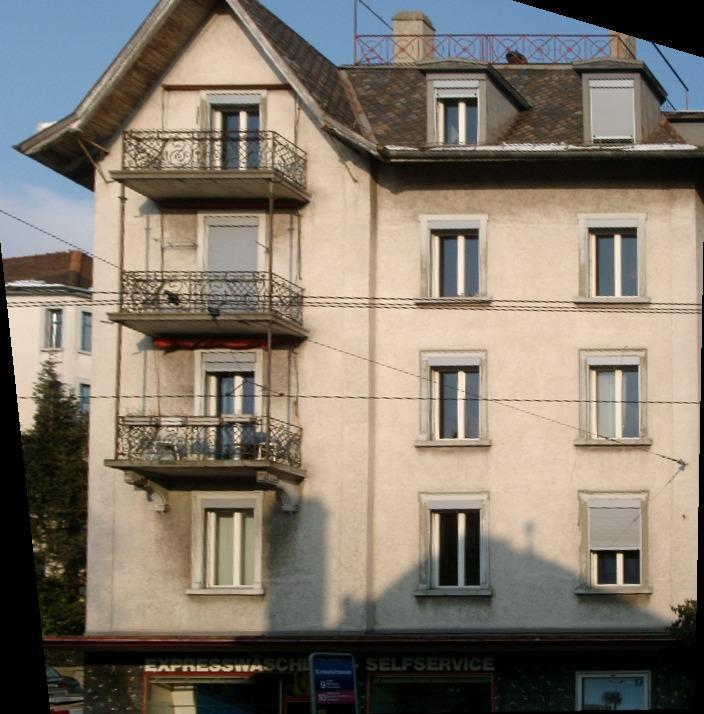window: (202, 352, 258, 463), (208, 217, 259, 314), (203, 499, 255, 590), (429, 357, 483, 442), (588, 356, 642, 441), (430, 501, 481, 589), (592, 500, 643, 587), (429, 221, 483, 299), (587, 219, 641, 296), (209, 95, 262, 171), (436, 82, 480, 146), (590, 80, 634, 144)
